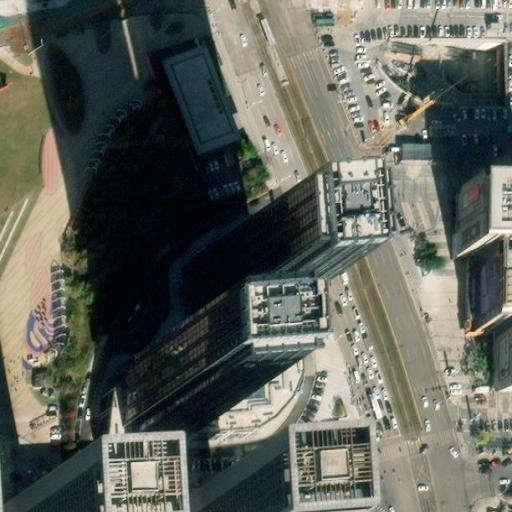building: (109, 288, 307, 444), (230, 214, 310, 302), (159, 333, 245, 410), (164, 496, 243, 512)
